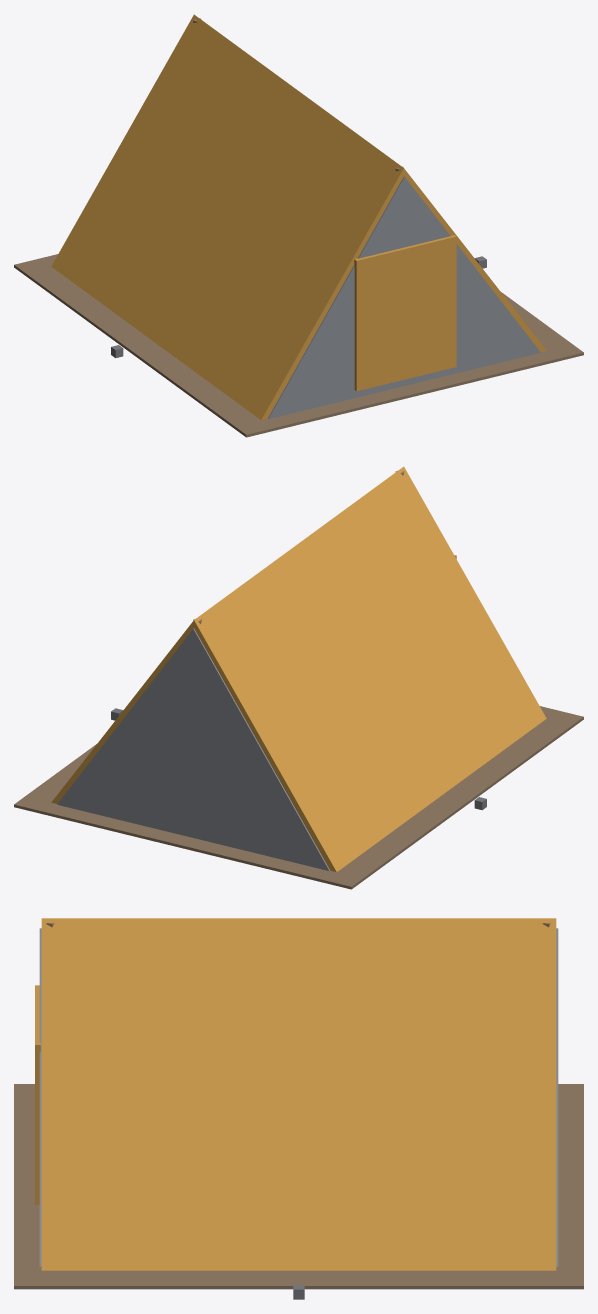
File: Cadir_Turuncu.glb
3 renders of one model, top to bottom at view 1: azimuth 30°, elevation 25°; view 2: azimuth 150°, elevation 25°; view 3: azimuth 270°, elevation 25°, orthographic. The views are drawn at different scales.
Parts seen in each view (by area): view 1: Cadir_Turuncu; view 2: Cadir_Turuncu; view 3: Cadir_Turuncu.
Boxes of the visible parts, bbox=[...] form: Cadir_Turuncu: bbox=[14, 14, 583, 437]; Cadir_Turuncu: bbox=[14, 466, 583, 889]; Cadir_Turuncu: bbox=[14, 918, 583, 1299].
Bounding box in the file's own units: 2.86 × 1.62 × 3.1.
